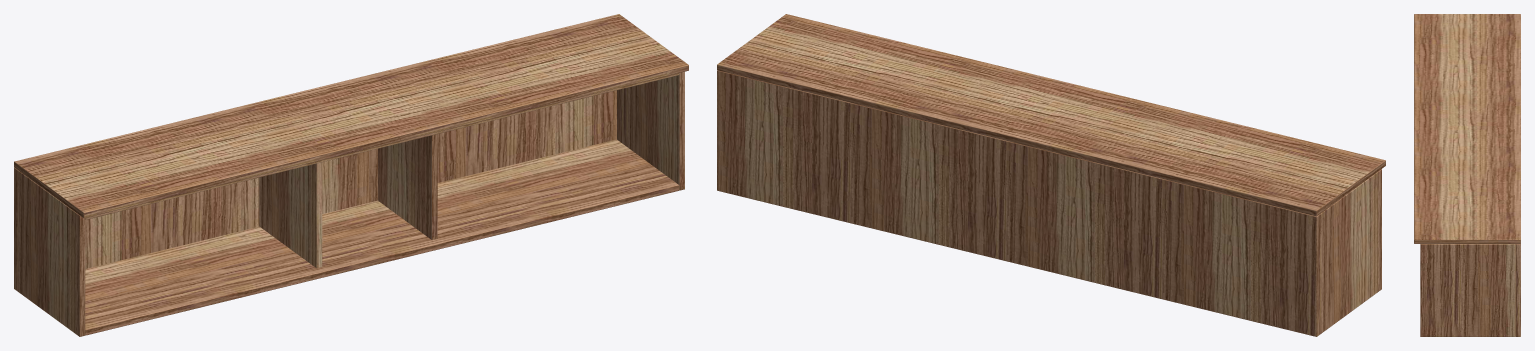
File: cabinet_shelf_ext_coverplate_1OH_200x38_FINAL.fbx
3 renders of one model, left to right at view 1: azimuth 30°, elevation 25°; view 2: azimuth 150°, elevation 25°; view 3: azimuth 270°, elevation 25°, orthographic. The views are drawn at different scales.
Visible parts, largest first — view 1: body_mesh, top_mesh, srodek_mesh; view 2: body_mesh, top_mesh; view 3: top_mesh, body_mesh.
Part boxes in pixels (box(x1,y1,x2,y2)): body_mesh: box(14, 71, 684, 336); top_mesh: box(14, 14, 688, 217); srodek_mesh: box(259, 134, 437, 268); body_mesh: box(717, 70, 1381, 336); top_mesh: box(717, 14, 1385, 216); top_mesh: box(1414, 14, 1520, 243); body_mesh: box(1420, 244, 1520, 336).
Bounding box in the file's own units: 200 × 40.3 × 40.01.
